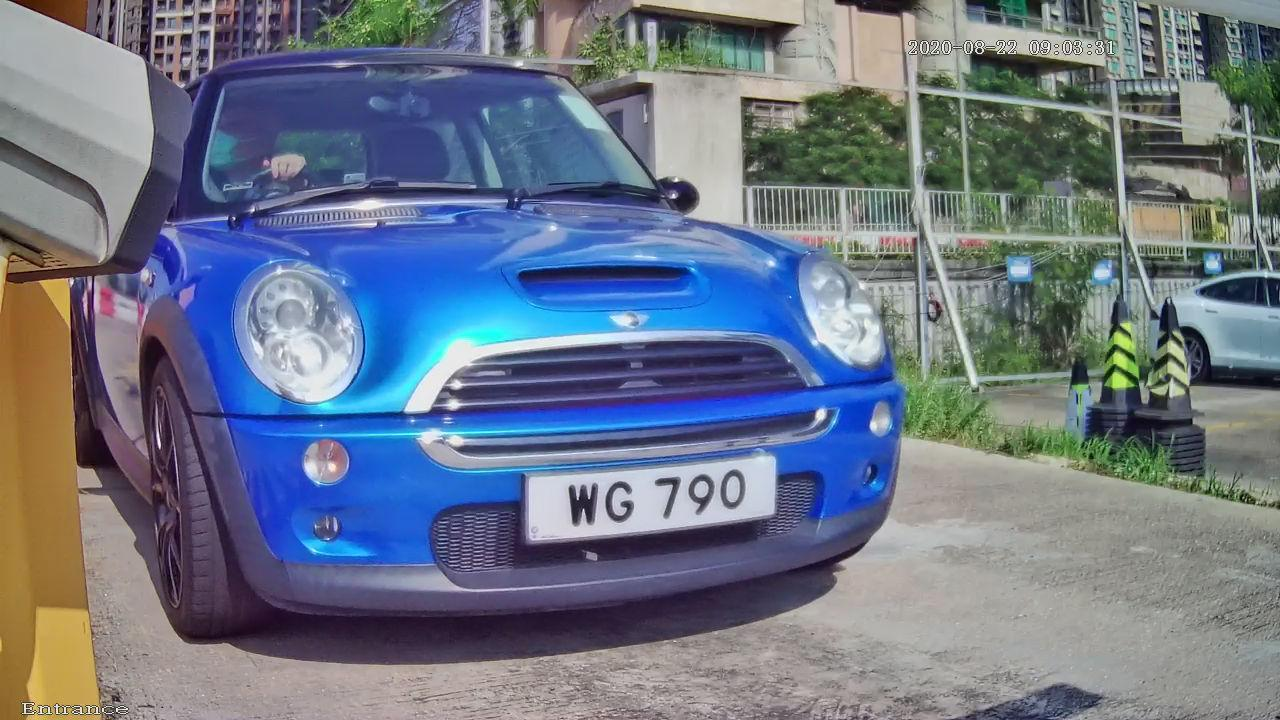Car: (26, 3, 998, 700)
License Plate: (493, 420, 834, 567)
